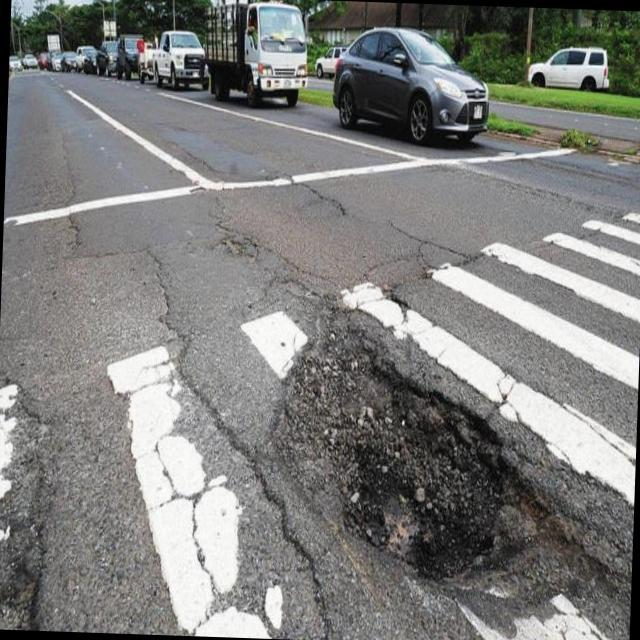Pothole: (268, 307, 572, 604)
